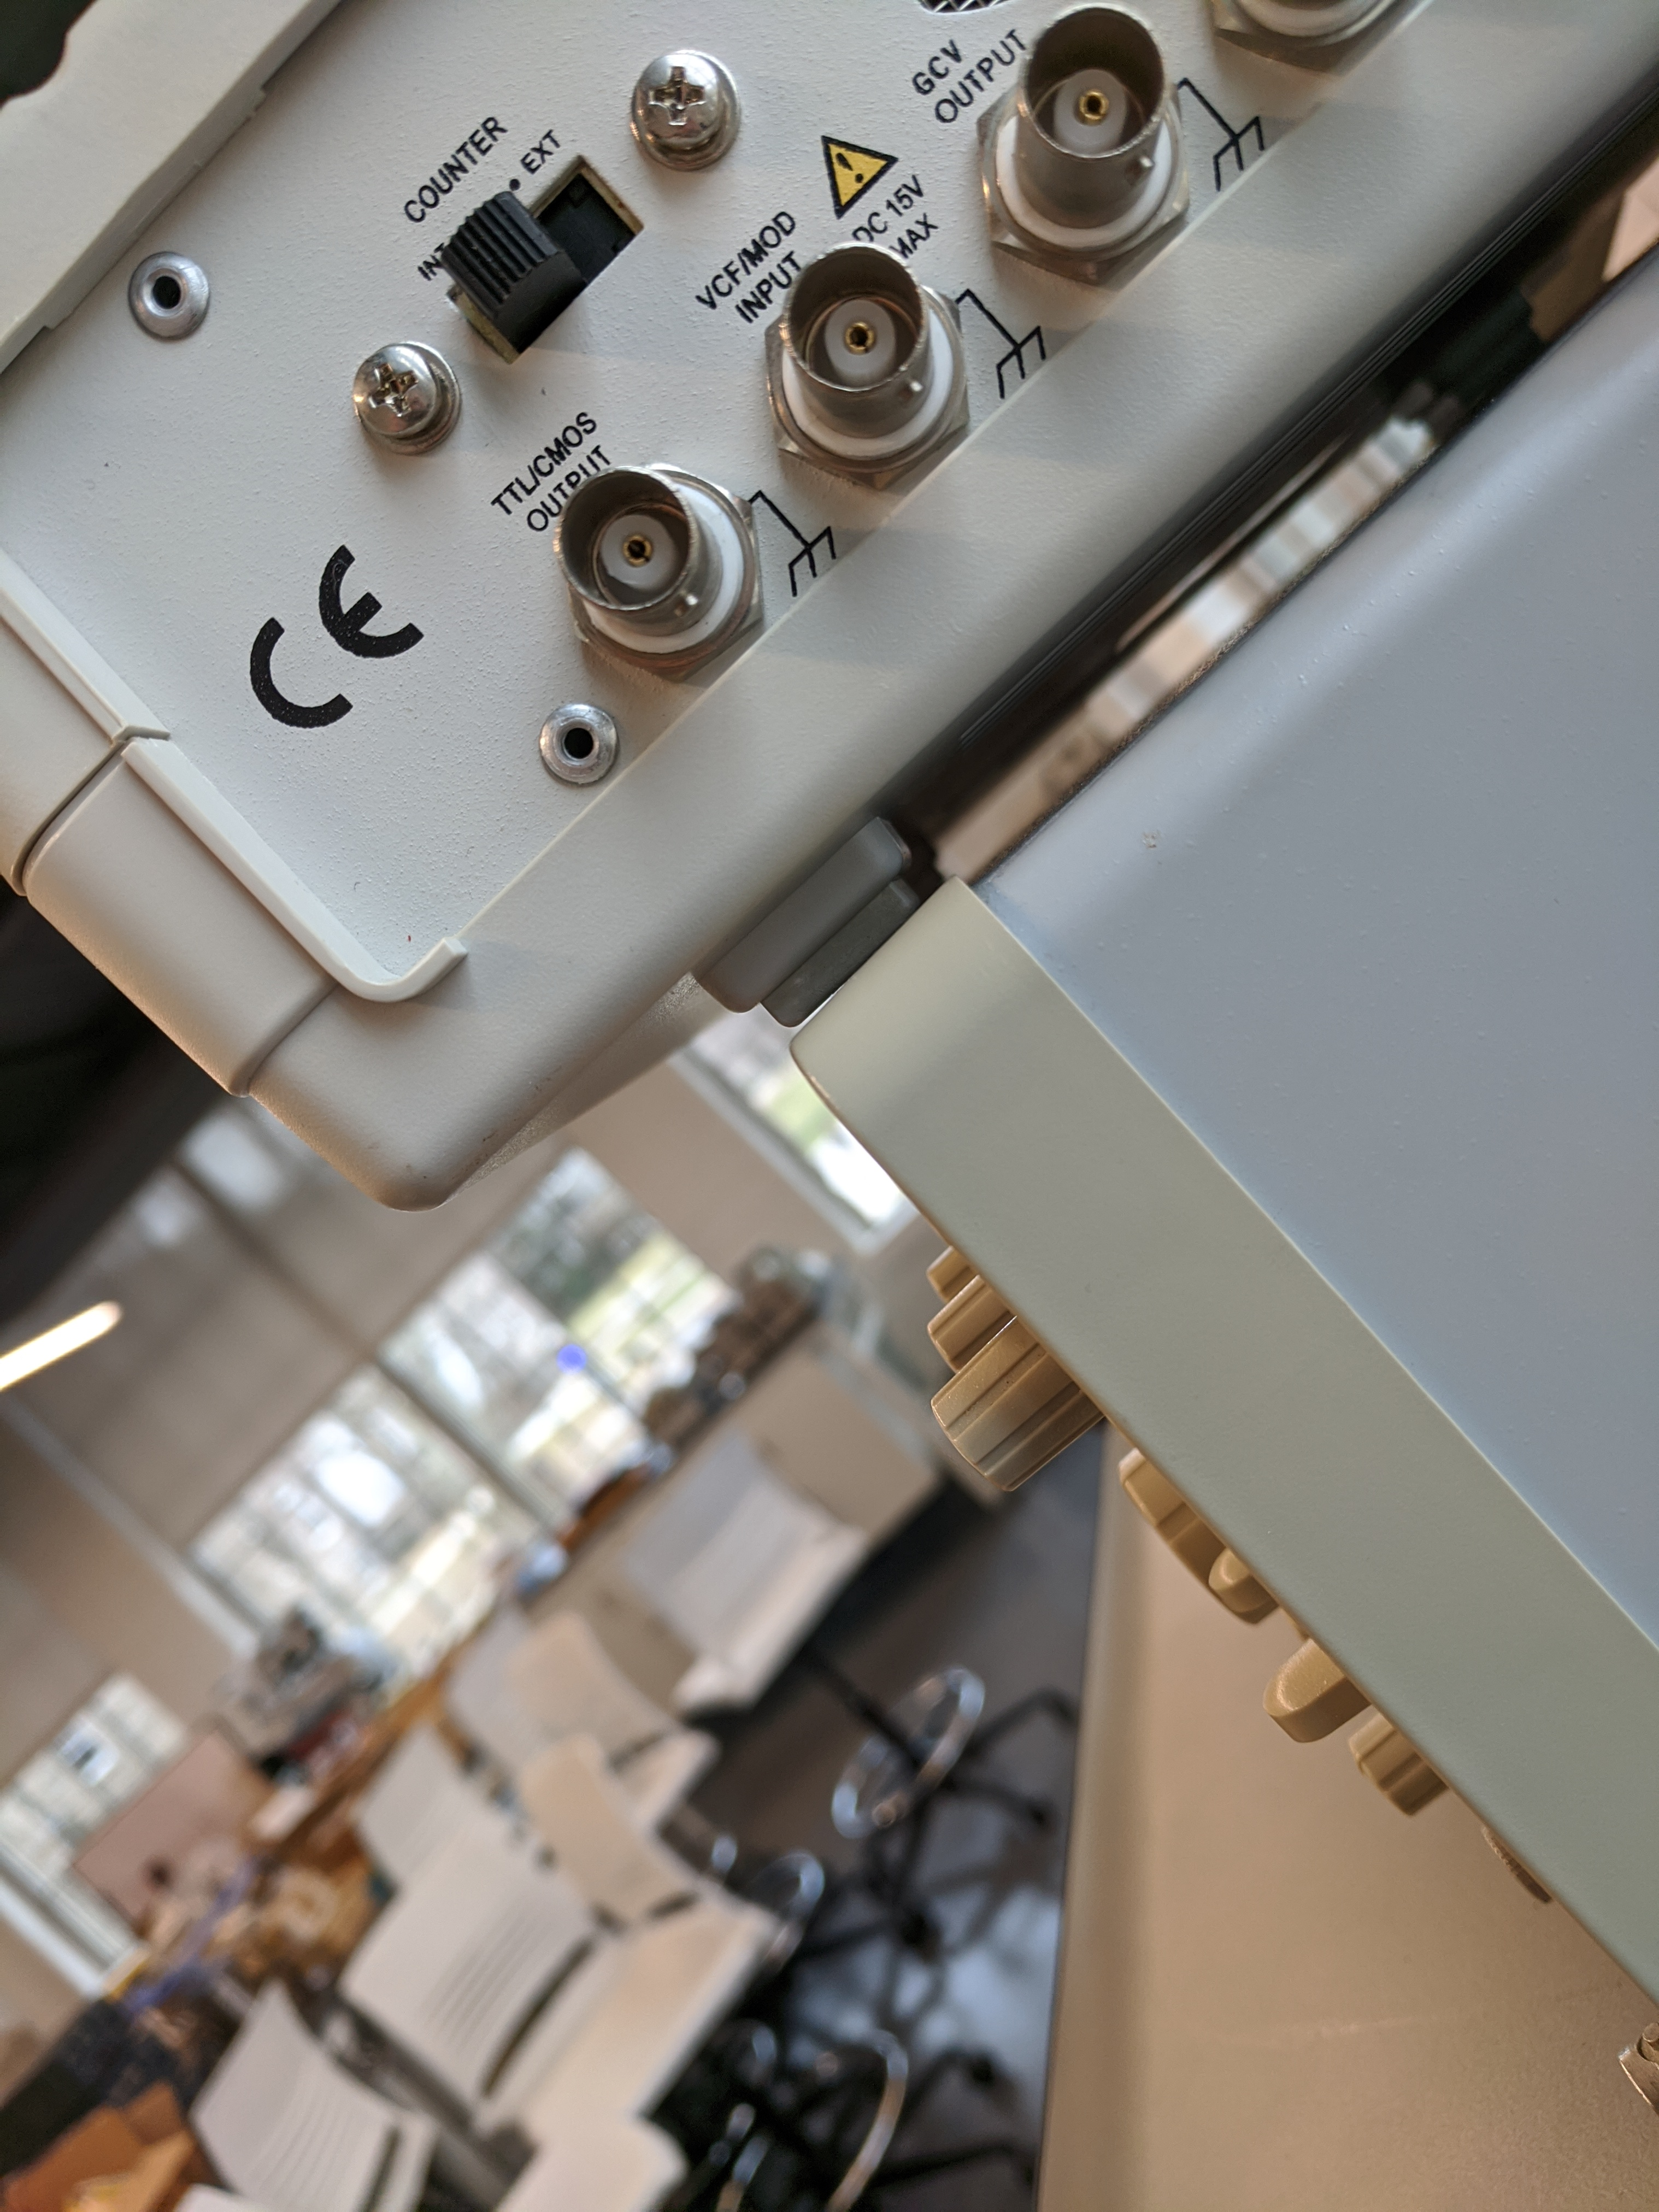cross_recessed_screw: (624, 35, 742, 165), (340, 334, 455, 442)
